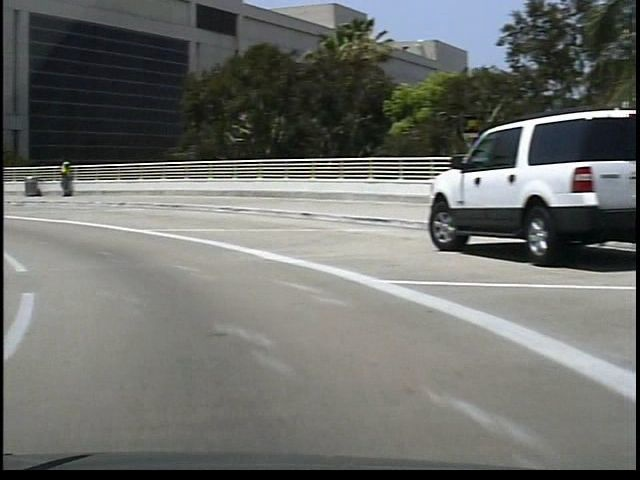person: (54, 154, 72, 198)
